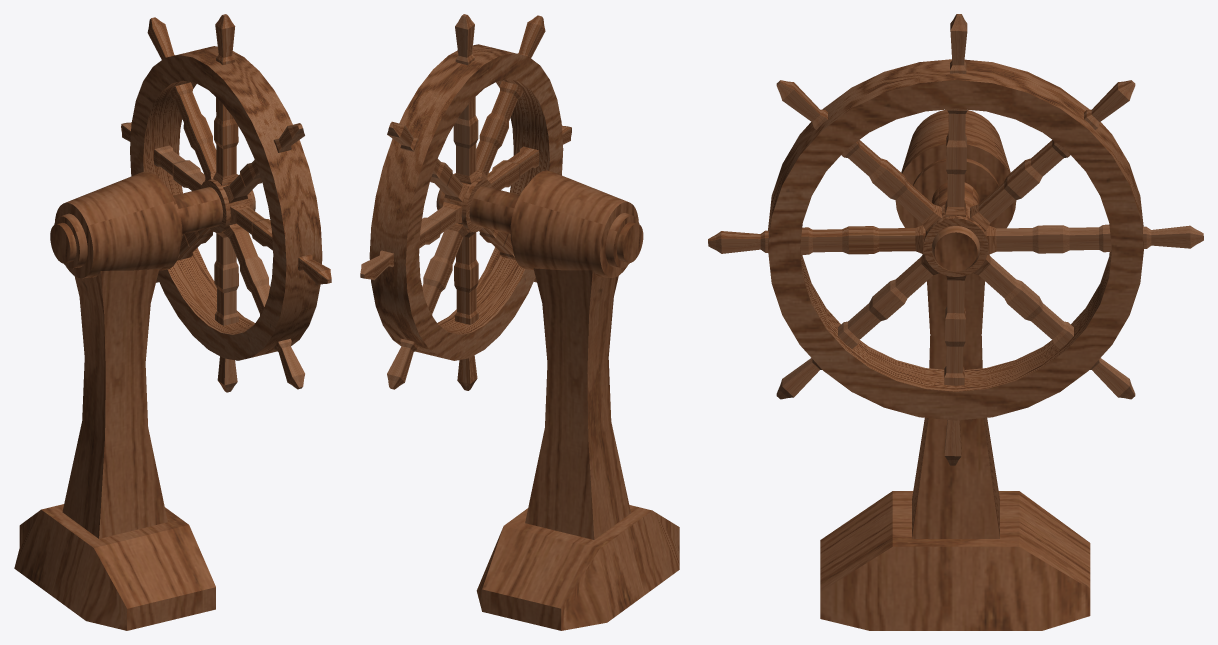
Rendered from steering-wheel.fbx.
3 renders of one model, left to right at view 1: azimuth 30°, elevation 25°; view 2: azimuth 150°, elevation 25°; view 3: azimuth 270°, elevation 25°, orthographic. The views are drawn at different scales.
Parts seen in each view (by area): view 1: Cube.005, Cylinder.003; view 2: Cube.005, Cylinder.003; view 3: Cylinder.003, Cube.005.
Part boxes in pixels (<box>): Cube.005: <box>14,171,255,630</box>; Cylinder.003: <box>121,14,331,392</box>; Cube.005: <box>436,170,679,630</box>; Cylinder.003: <box>360,14,571,390</box>; Cylinder.003: <box>708,14,1203,465</box>; Cube.005: <box>820,109,1090,630</box>.
Size of the model in its own units: 29.63 by 77.11 by 53.88.
